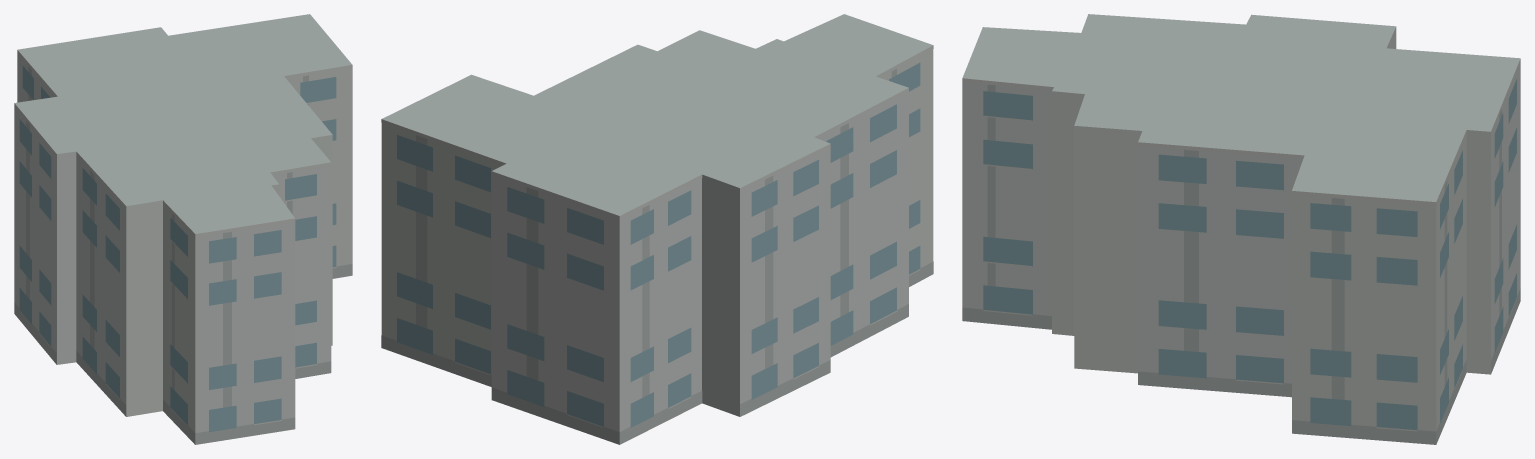
Rendered from survey-upis-32697840.glb.
The picture shows the model from 3 angles, left to right: view 1: azimuth 30°, elevation 25°; view 2: azimuth 150°, elevation 25°; view 3: azimuth 270°, elevation 25°; orthographic projection. The views are drawn at different scales.
Parts seen in each view (by area): view 1: survey-upis-32697840.tmp; view 2: survey-upis-32697840.tmp; view 3: survey-upis-32697840.tmp.
Part boxes in pixels (box(x1,y1,x2,y2)): survey-upis-32697840.tmp: box(14, 14, 352, 444); survey-upis-32697840.tmp: box(381, 14, 933, 444); survey-upis-32697840.tmp: box(962, 14, 1520, 444).
Bounding box in the file's own units: 25.35 × 15.25 × 31.79.
